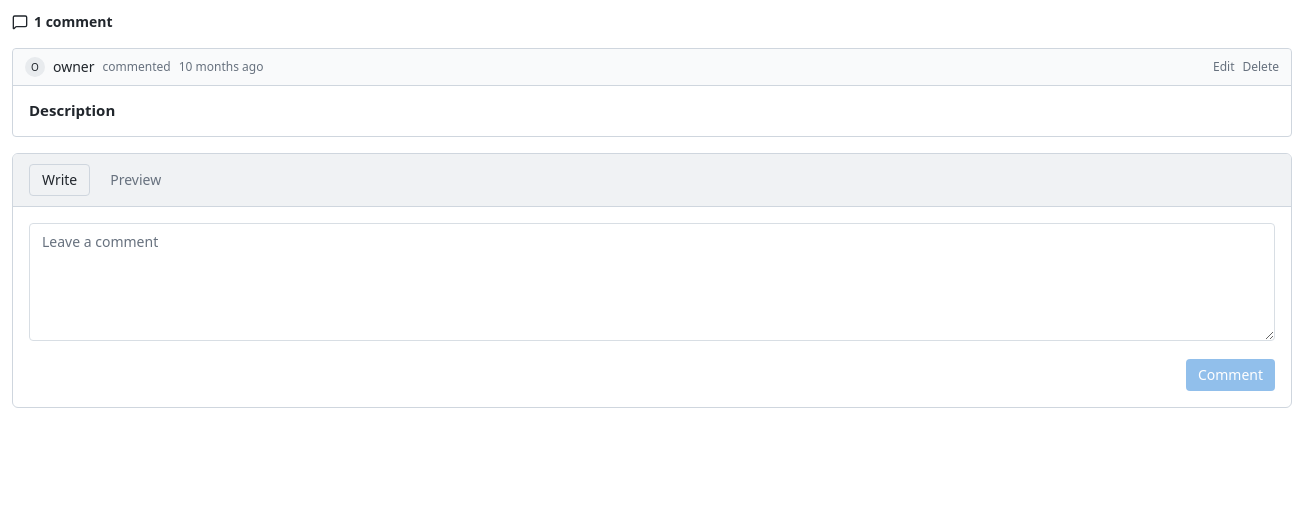
it: Markdown descriptions and comments › displays backend HTML and edits raw Markdown for comments
Expected: the text "**Description**" is not shown
Step 1. Click the button with test id "edit-comment-1" → (1224,67), box top-left (1213, 59), bottom-right (1234, 75)
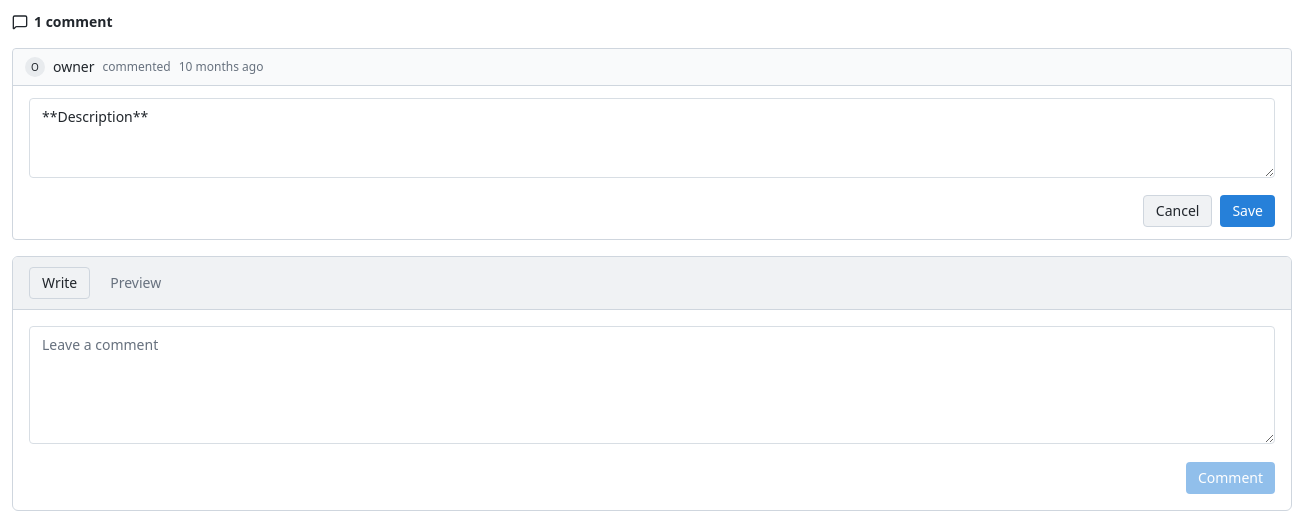
Expected: the text box with test id "edit-comment-input-1" holds "**Description**", top-left (29, 98), bottom-right (1275, 178)
